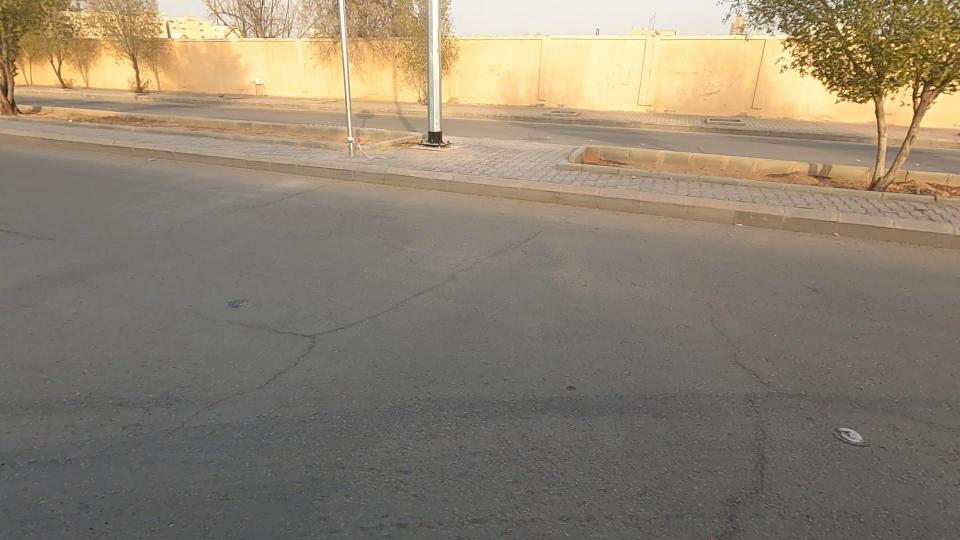POTHOLES: (682, 229, 827, 540), (199, 281, 426, 404), (346, 220, 567, 325)
